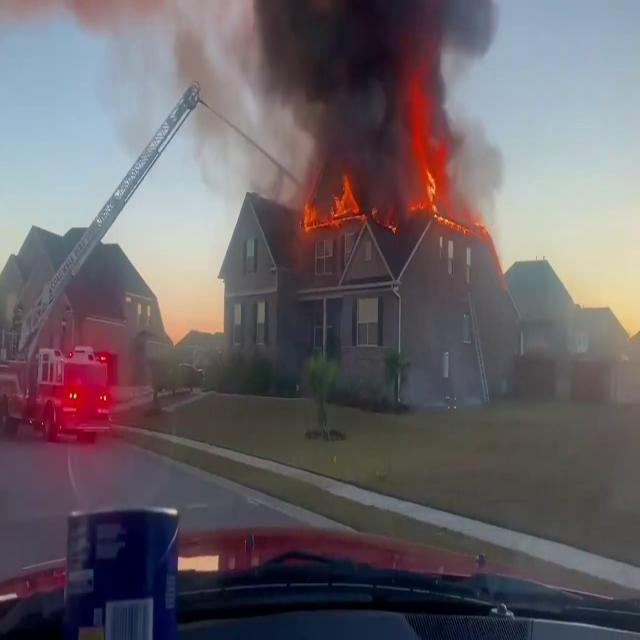Fire: (399, 80, 456, 222), (302, 170, 364, 233)
Smoke: (228, 1, 504, 201)
